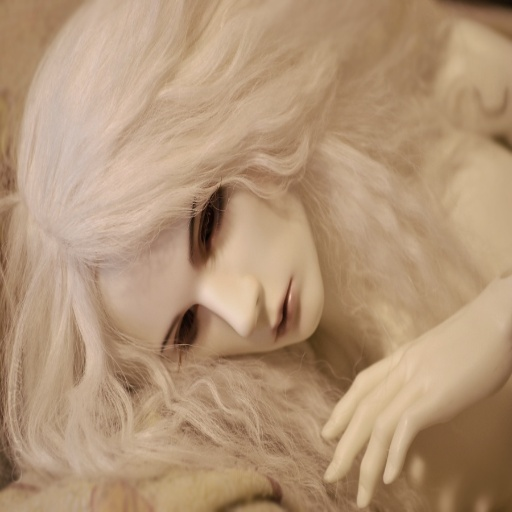hand: (316, 310, 481, 496)
